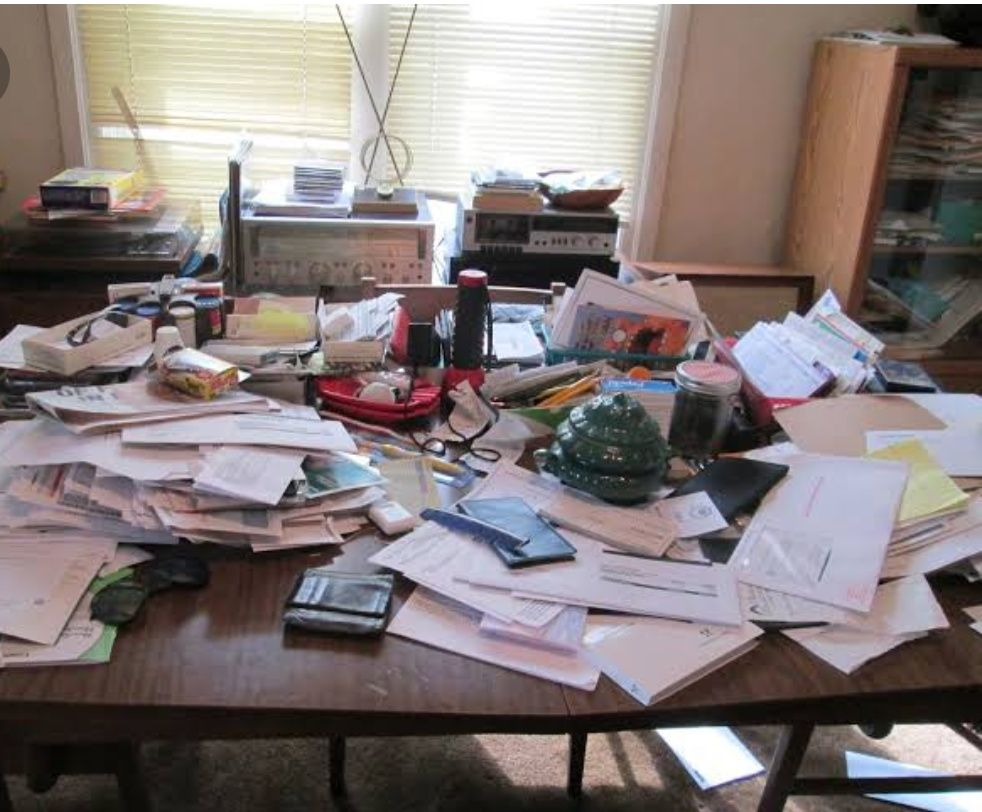not a gesture sign: (82, 7, 707, 189)
